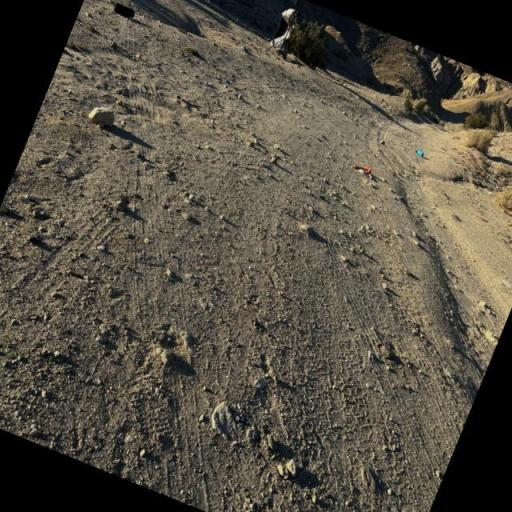bottle: (109, 0, 139, 23), (412, 144, 426, 159)
mallet: (349, 157, 375, 177)
